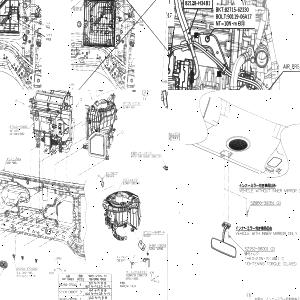PartNumber: (227, 13, 252, 21), (184, 0, 210, 7), (224, 7, 250, 13), (250, 200, 275, 205), (244, 246, 268, 251), (16, 266, 34, 270), (59, 290, 77, 294), (59, 283, 77, 287), (143, 230, 161, 234), (9, 125, 28, 128), (148, 244, 167, 247), (59, 297, 77, 300), (126, 277, 138, 280)
